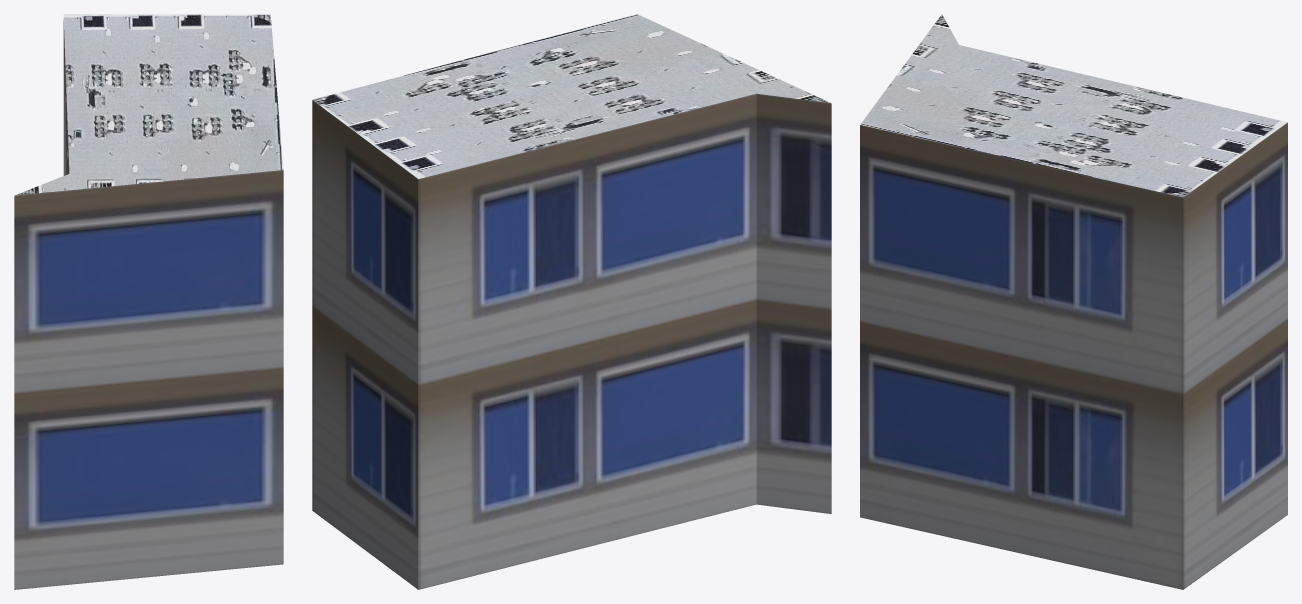
File: ResTex__2613.fbx
The picture shows the model from 3 angles, left to right: view 1: azimuth 30°, elevation 25°; view 2: azimuth 150°, elevation 25°; view 3: azimuth 270°, elevation 25°; orthographic projection. The views are drawn at different scales.
Parts seen in each view (by area): view 1: CityEngineMaterial_23_m, CityEngineMaterial_m; view 2: CityEngineMaterial_23_m, CityEngineMaterial_m; view 3: CityEngineMaterial_23_m, CityEngineMaterial_m.
Boxes of the visible parts, bbox=[...] form: CityEngineMaterial_23_m: bbox=[14, 20, 283, 589]; CityEngineMaterial_m: bbox=[15, 14, 283, 195]; CityEngineMaterial_23_m: bbox=[312, 93, 831, 589]; CityEngineMaterial_m: bbox=[312, 14, 830, 178]; CityEngineMaterial_23_m: bbox=[860, 122, 1287, 589]; CityEngineMaterial_m: bbox=[860, 14, 1287, 197].
Size of the model in its own units: 6.01 by 6 by 5.93.
Materials: 2 (2 with a texture image).
